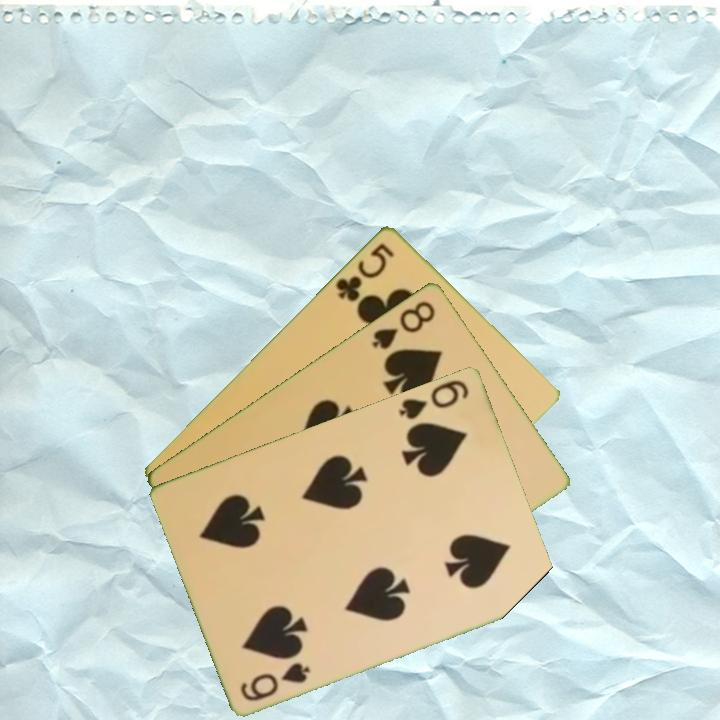5c: (332, 238, 398, 304)
6s: (395, 375, 472, 422), (237, 658, 313, 704)
8s: (368, 296, 439, 352)
